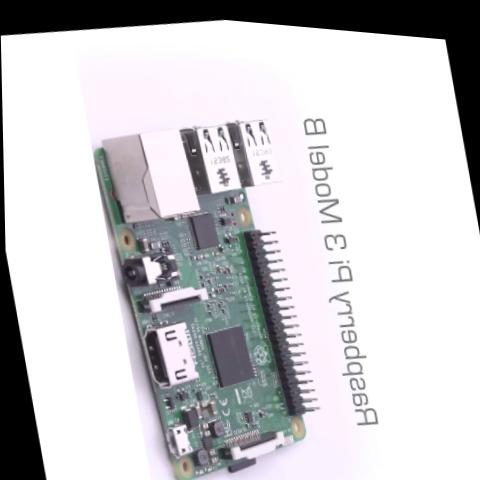Raspberry-Pi-3-Model-B: (87, 93, 339, 480)
